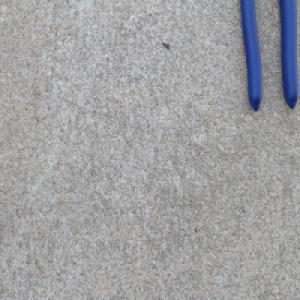Pliers: (238, 0, 299, 113)
